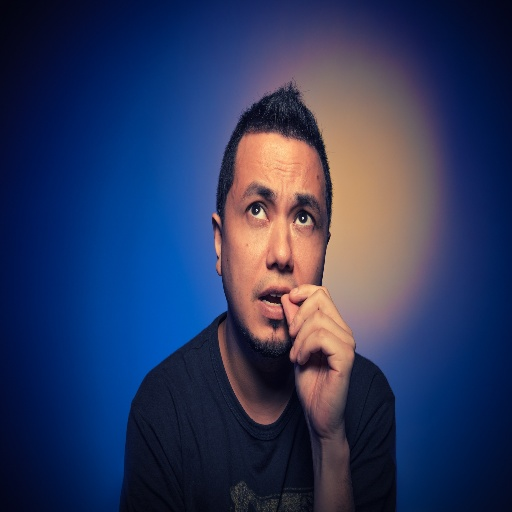hand: (279, 268, 347, 447)
